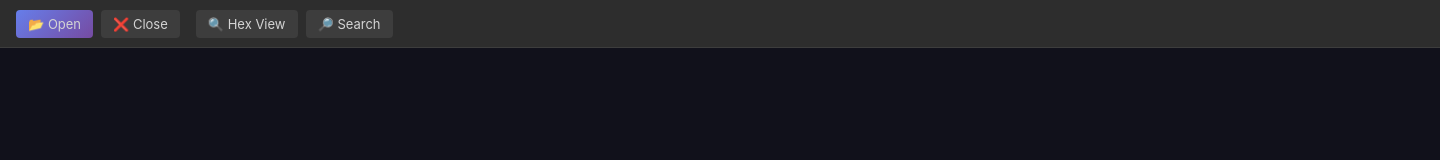
Scenario: Toolbar Component › shows Search input when search button is clicked
Click the button "🔎 Search".
click(349, 24)  # box [306,10,392,38]
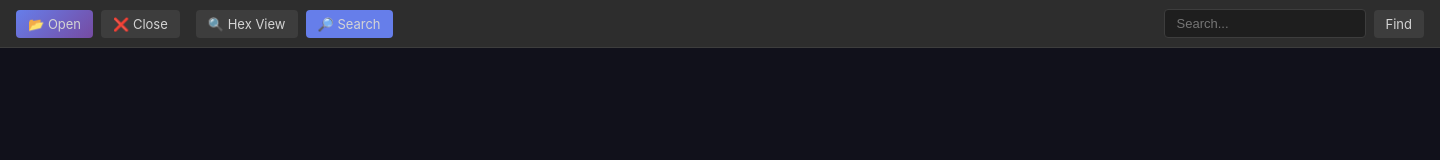
Result: the field with placeholder "Search..." is shown at [1164,9,1366,38]
